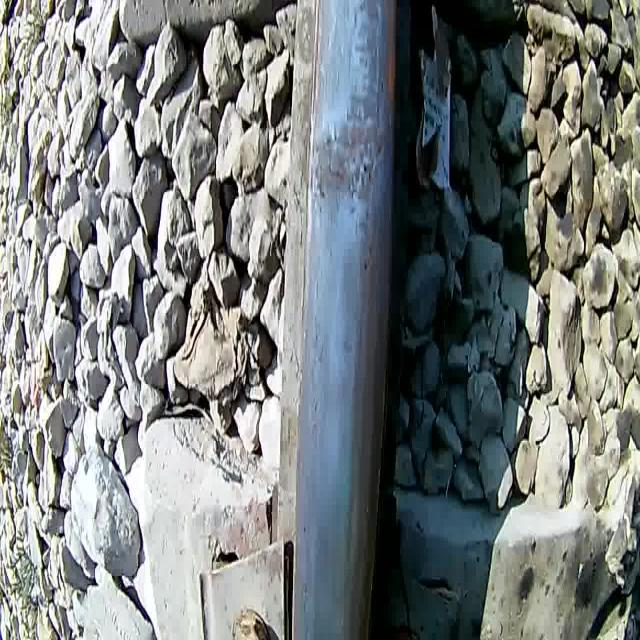Squats: (306, 122, 392, 217), (342, 0, 388, 119)
